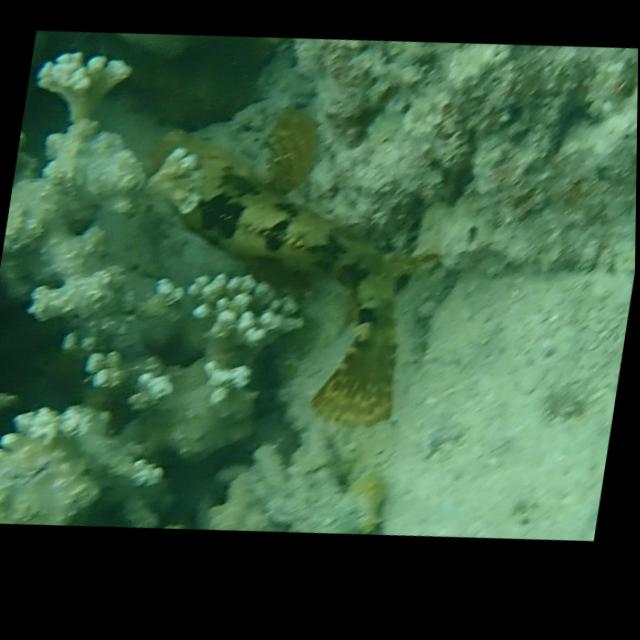Groupers: (115, 81, 438, 458)
